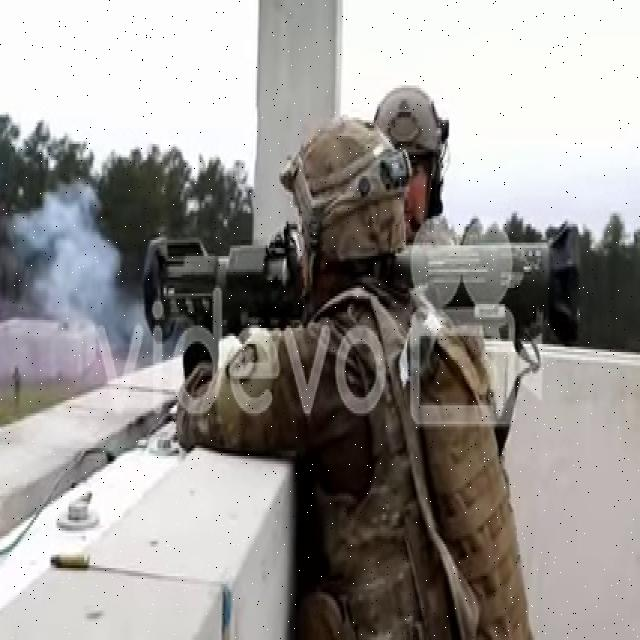bazooka: (139, 225, 588, 351)
